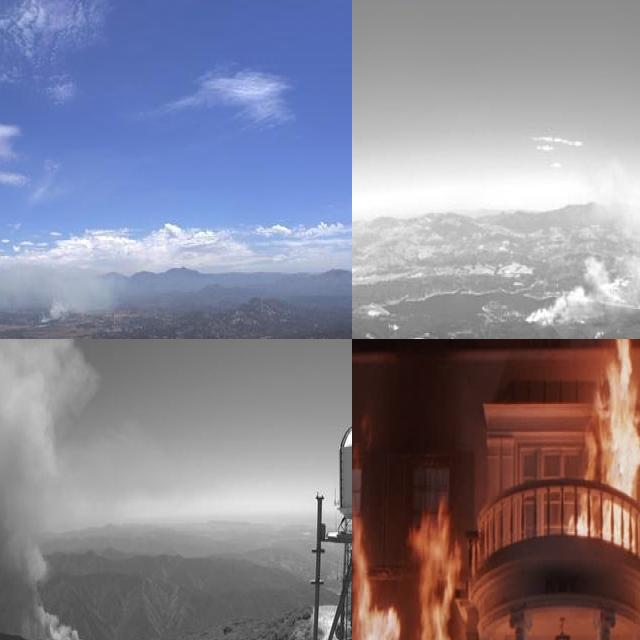fire: (547, 339, 640, 640), (352, 441, 485, 640)
smoke: (0, 339, 88, 640), (517, 158, 640, 322), (0, 246, 114, 325)
